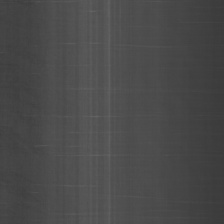waist_folding: (52, 18, 134, 209)
